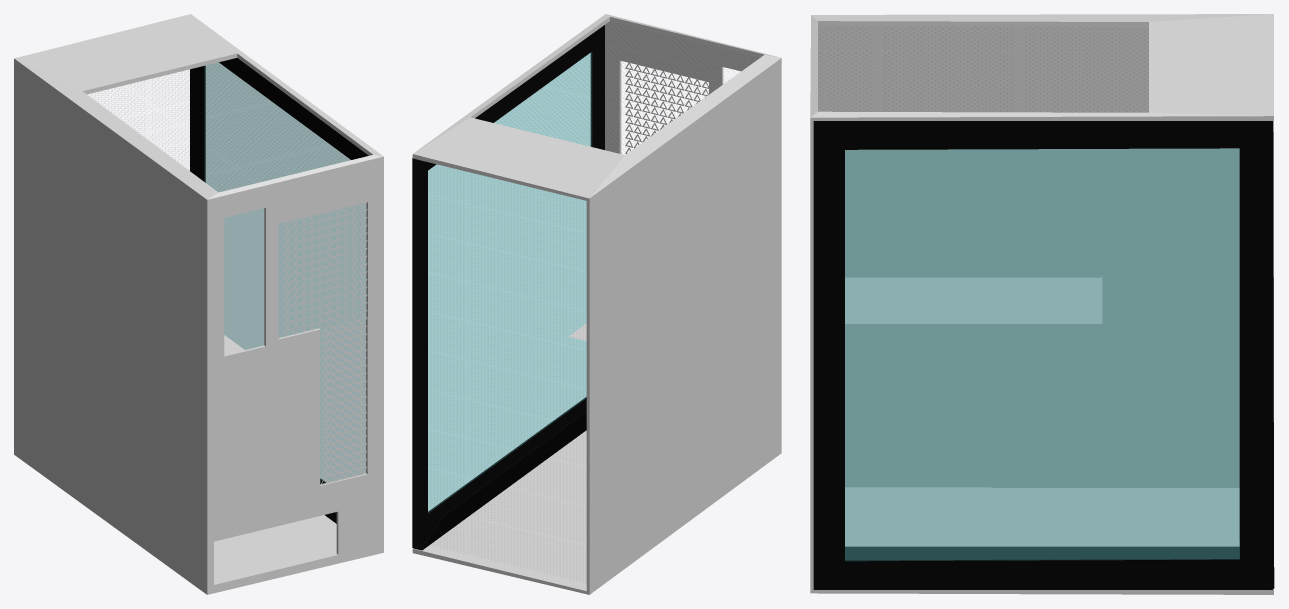
File: case_v11.glb
3 views of the same model, side by side, from view 1: azimuth 30°, elevation 25°; view 2: azimuth 150°, elevation 25°; view 3: azimuth 270°, elevation 25° (orthographic). The views are drawn at different scales.
Visible parts, largest first — view 1: Cube, Side_Plate, PSU_Area; view 2: Cube, Side_Plate; view 3: Side_Plate, Cube, Motherboard_Area, GPU_Area, PSU_Area, Cooler_Area.001, Cooler_Area.
Boxes of the visible parts, x1,y1,x2,y2 form: Cube: (14,14,383,594); Side_Plate: (190,58,368,523); PSU_Area: (214,523,332,583); Cube: (412,14,781,594); Side_Plate: (412,25,604,550); Side_Plate: (813,121,1274,589); Cube: (810,14,1273,594); Motherboard_Area: (821,40,1101,357); GPU_Area: (845,276,1102,323); PSU_Area: (845,487,991,546); Cooler_Area.001: (1010,65,1079,112); Cooler_Area: (874,69,931,111).
Bounding box in the file's own units: 214 × 460 × 404.
4 materials, 1 textured.
